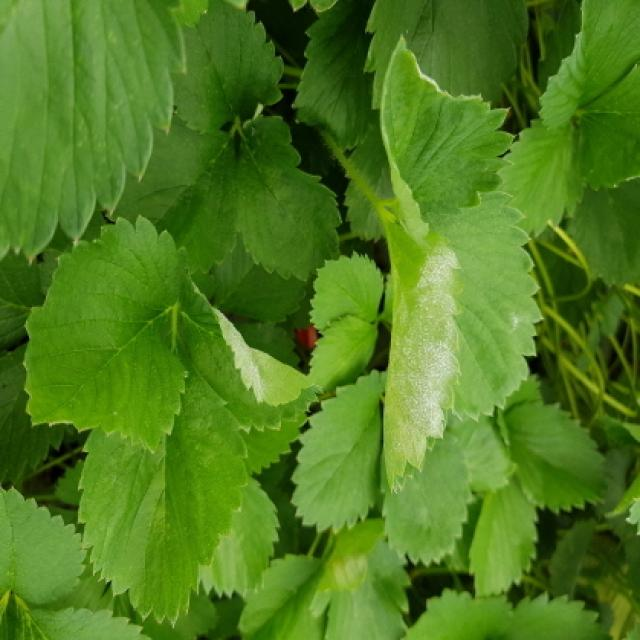Powdery Mildew Leaf: (378, 34, 518, 248), (429, 190, 548, 423), (376, 199, 464, 494), (183, 275, 326, 434)
